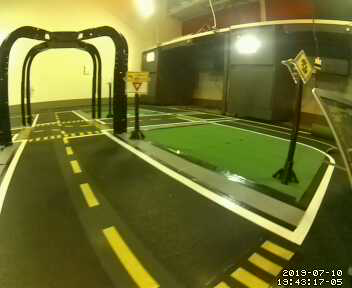Turn Yield: (126, 70, 149, 95)
